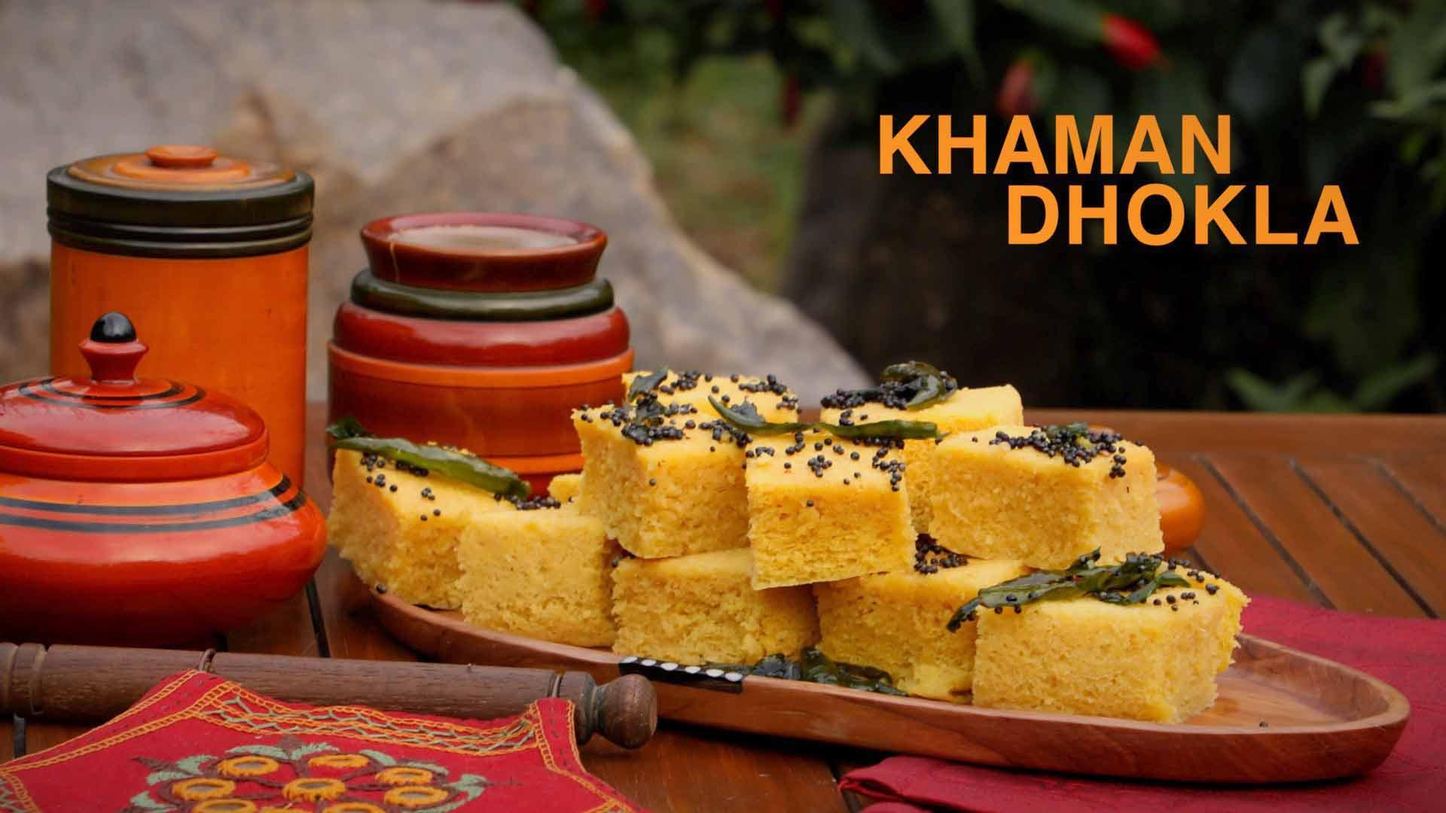dhokla: (384, 430, 1145, 690)
